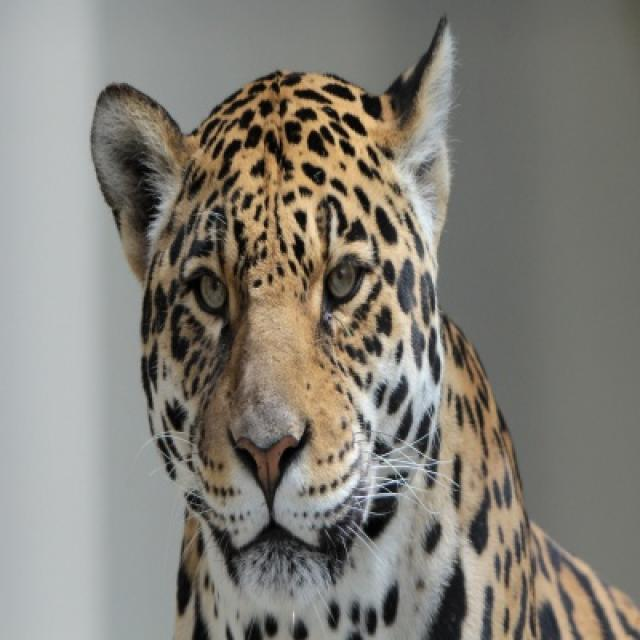Jaguar: (88, 16, 638, 638)
